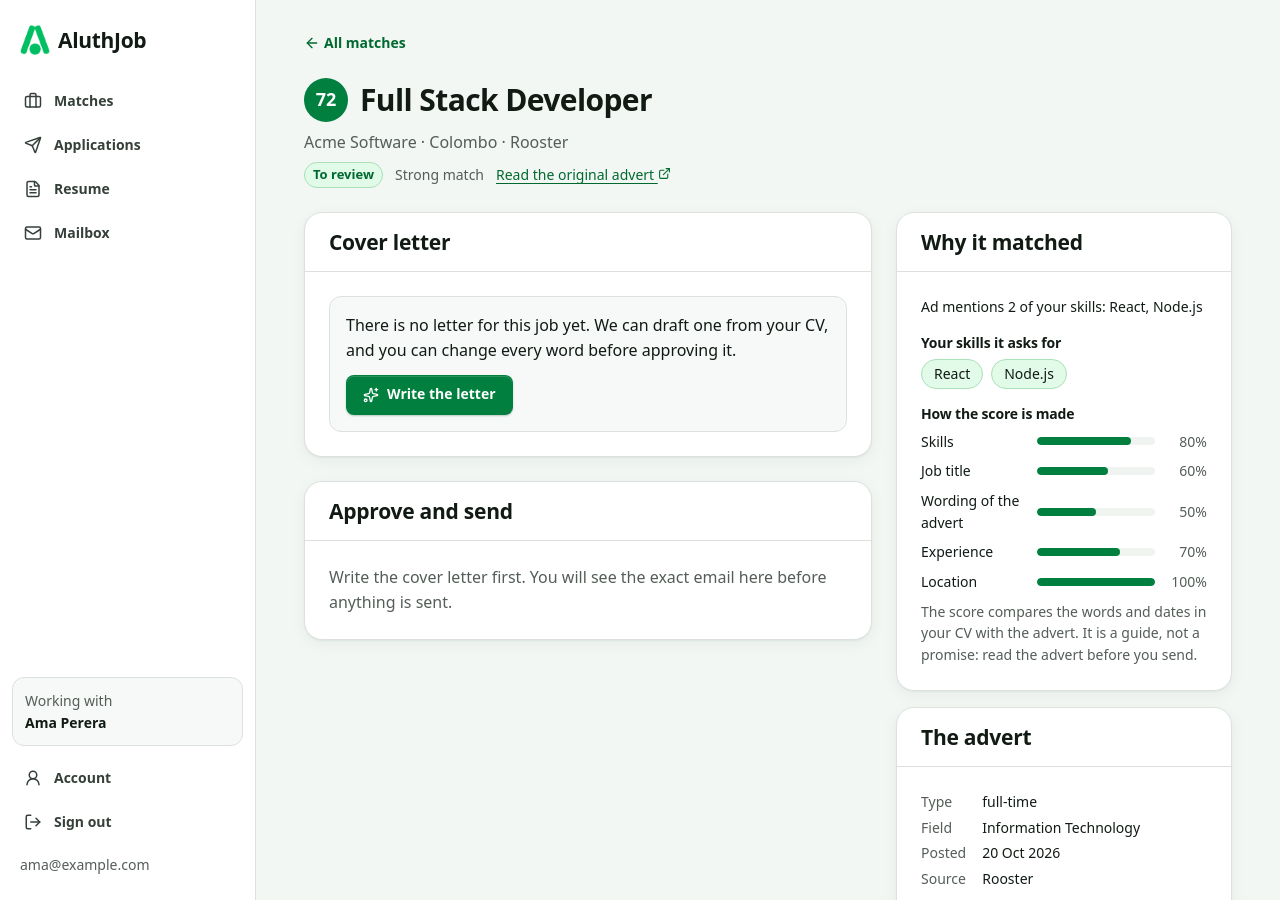
it: match page: the cover letter › reports a failed draft in words and leaves the page usable
The image size is (1280, 900).
Step 1. Click the button "Write the letter" → x=429, y=395, box top-left (346, 375), bottom-right (512, 415)
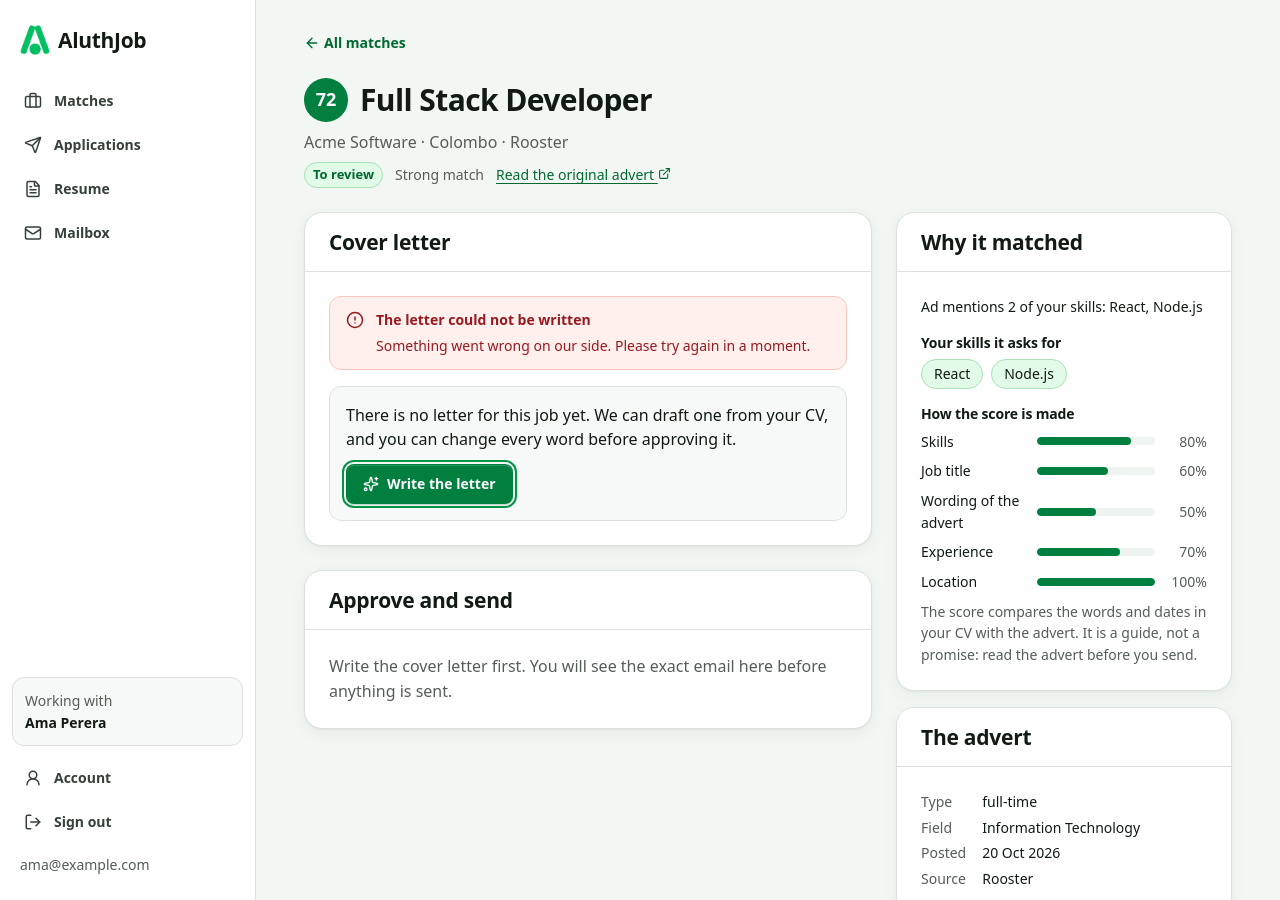
Expected: the button "Write the letter" is shown, top-left (346, 464), bottom-right (512, 504)
Expected: the text "The letter could not be written" is shown, top-left (376, 310), bottom-right (591, 329)
